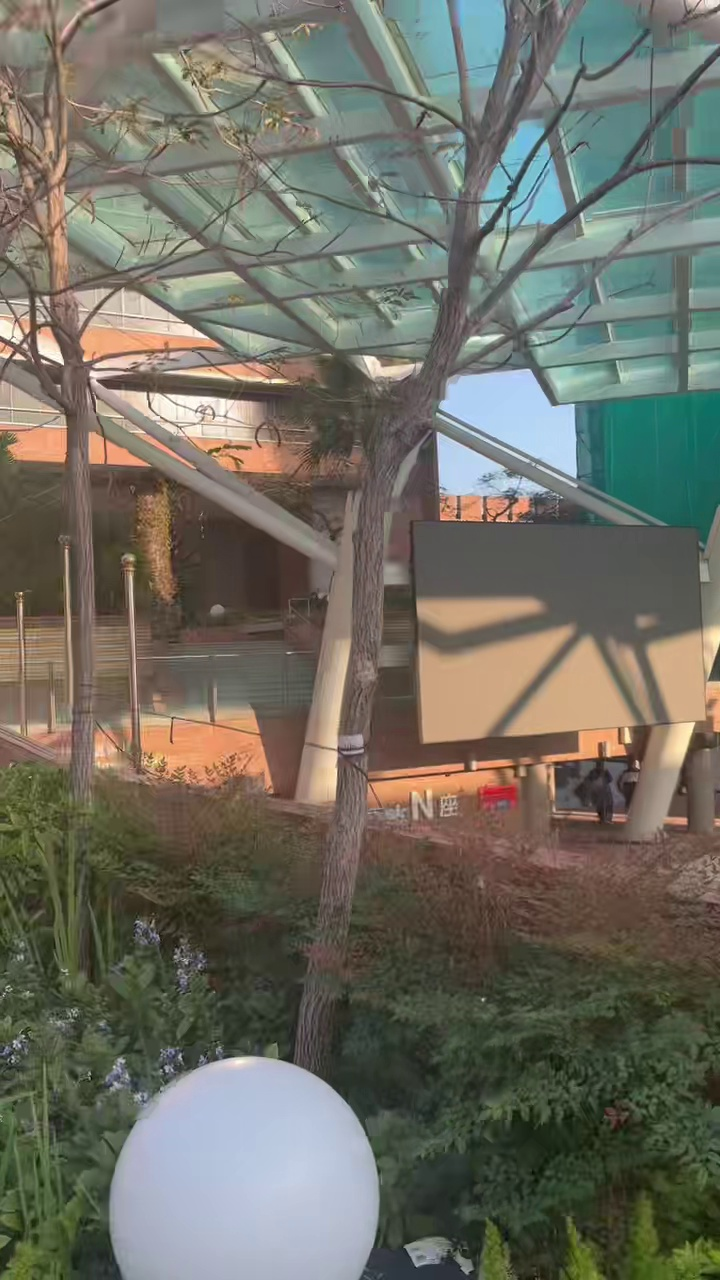Tabebuia chrysantha: (295, 0, 719, 1075)
